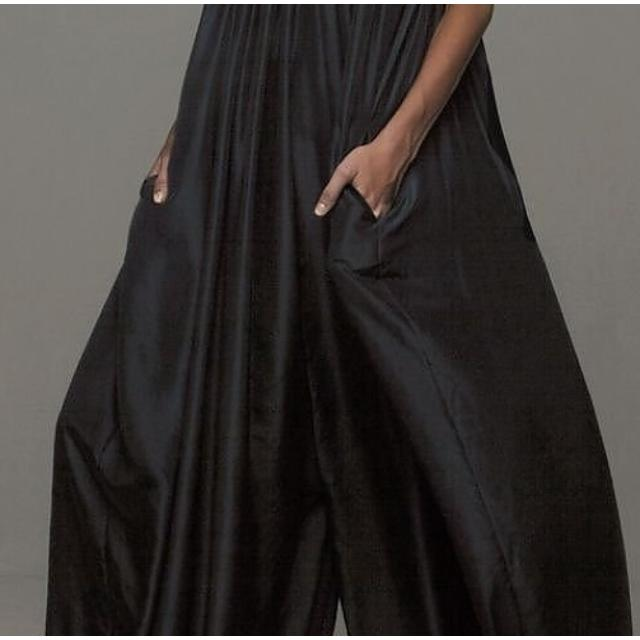silk: (44, 4, 640, 636)
